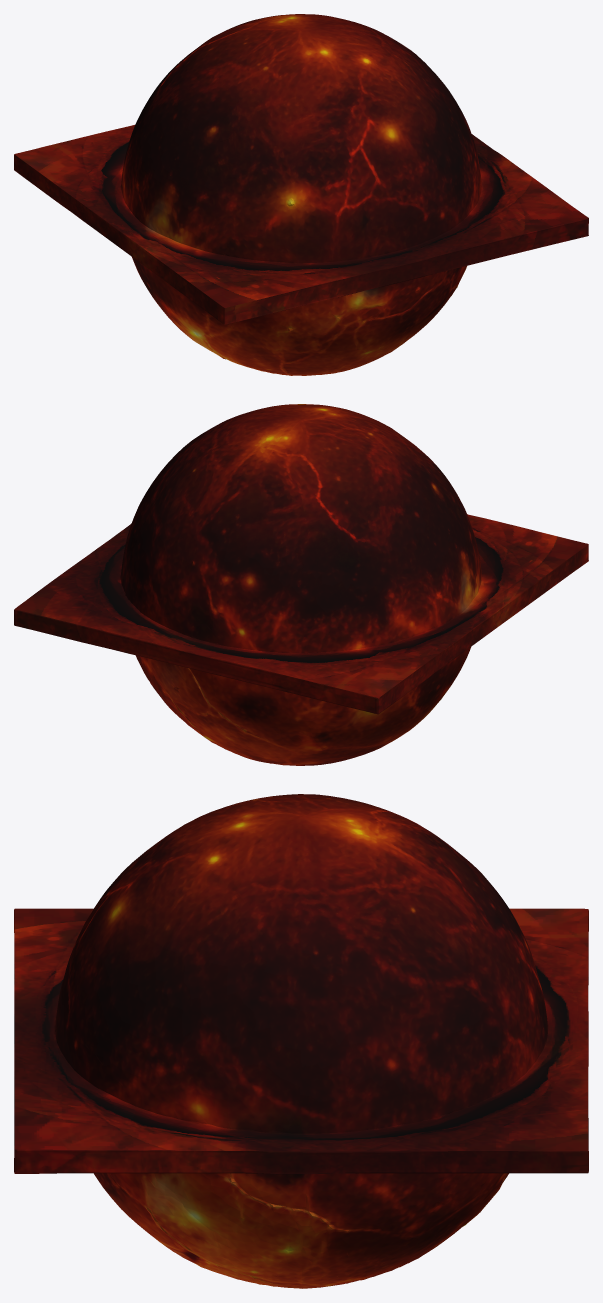
Rendered from sample (25).glb.
3 renders of one model, top to bottom at view 1: azimuth 30°, elevation 25°; view 2: azimuth 150°, elevation 25°; view 3: azimuth 270°, elevation 25°, orthographic. The views are drawn at different scales.
Visible parts, largest first — view 1: world; view 2: world; view 3: world.
Boxes of the visible parts, bbox=[...] form: world: bbox=[14, 14, 588, 375]; world: bbox=[14, 404, 588, 765]; world: bbox=[14, 794, 588, 1288].
Bounding box in the file's own units: 1 × 0.8669 × 1.
1 material, 1 textured.
